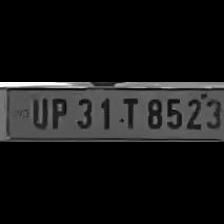1: (96, 95, 114, 131)
2: (184, 96, 202, 132)
3: (71, 94, 95, 130), (203, 96, 221, 130)
5: (164, 94, 182, 130)
8: (142, 94, 162, 130)
P: (47, 94, 70, 130)
T: (114, 95, 140, 131)
U: (28, 95, 46, 129)
